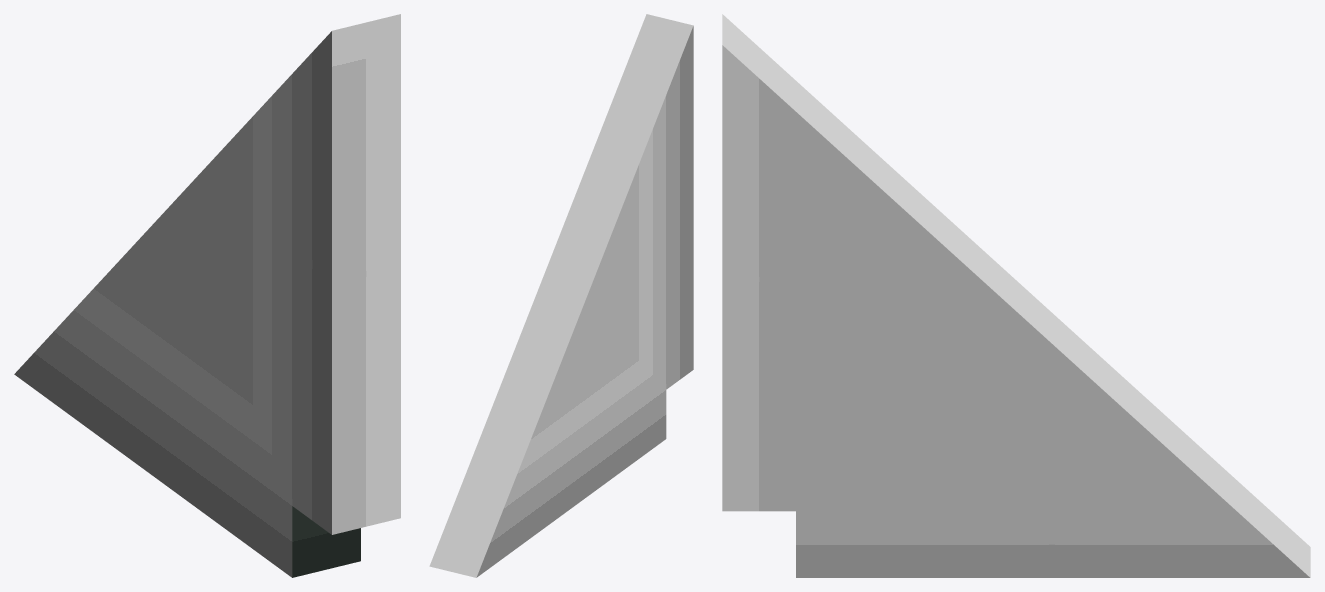
Rendered from end_cap_bench_right.obj.
The picture shows the model from 3 angles, left to right: view 1: azimuth 30°, elevation 25°; view 2: azimuth 150°, elevation 25°; view 3: azimuth 270°, elevation 25°; orthographic projection. The views are drawn at different scales.
Bounding box in the file's own units: 0.125 × 1 × 1.
